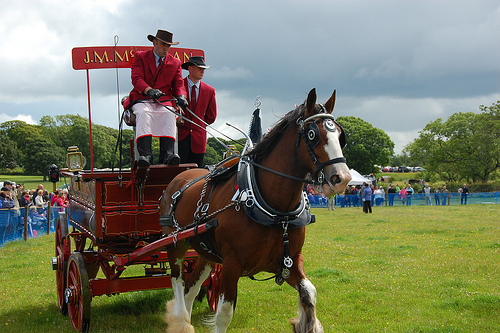horse: (156, 85, 352, 331)
